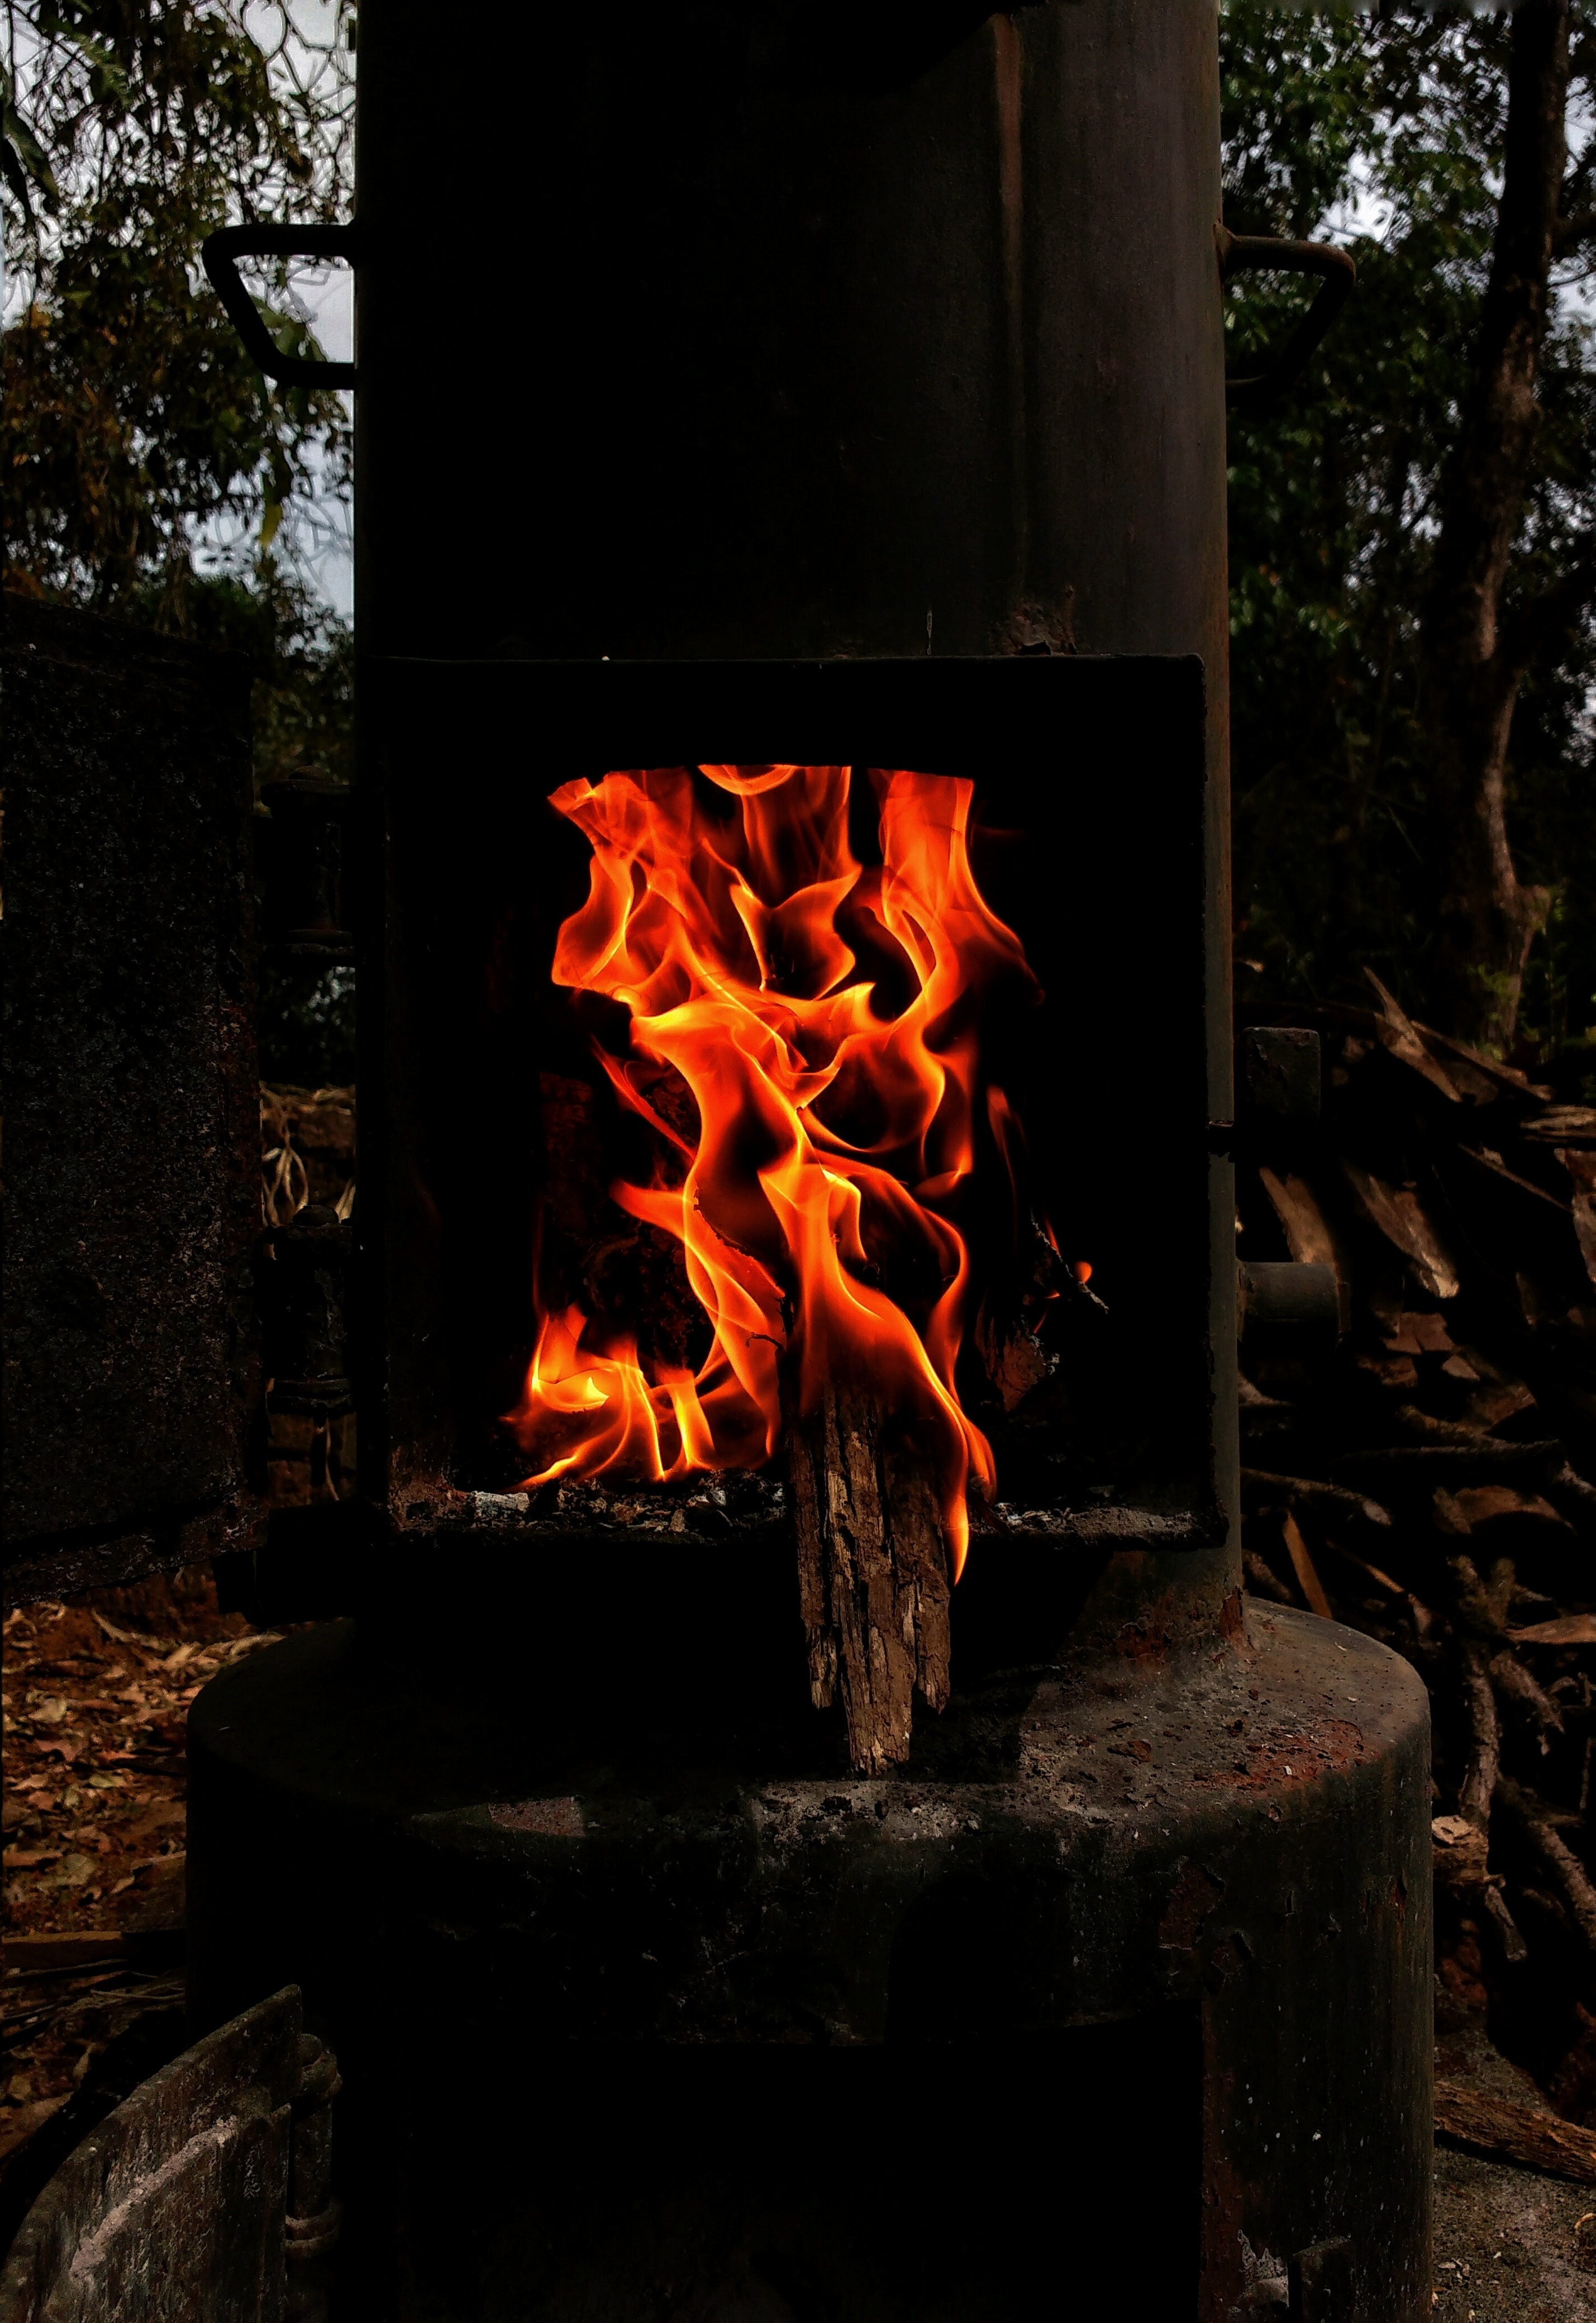fire: (489, 756, 1059, 1578)
